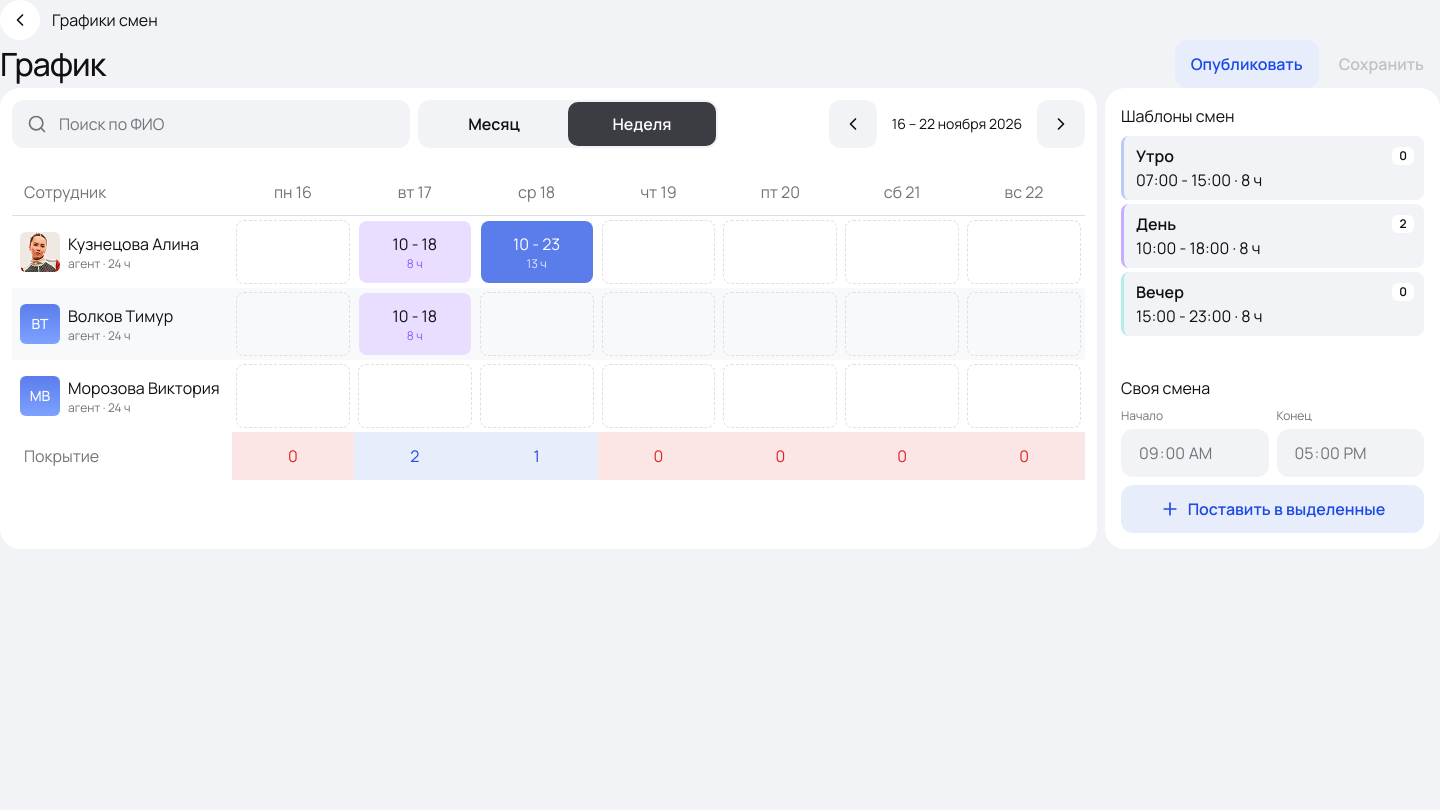
Scenario: SchedulePage: назначение смен › быстрое назначение по клику на дату ставит смену всем сотрудникам
Check: the table is shown, box [12,168,1085,537]
Click the button with aria-label "Быстро назначить смену на 2026-11-20" at (780, 192), box [753,176,808,208]
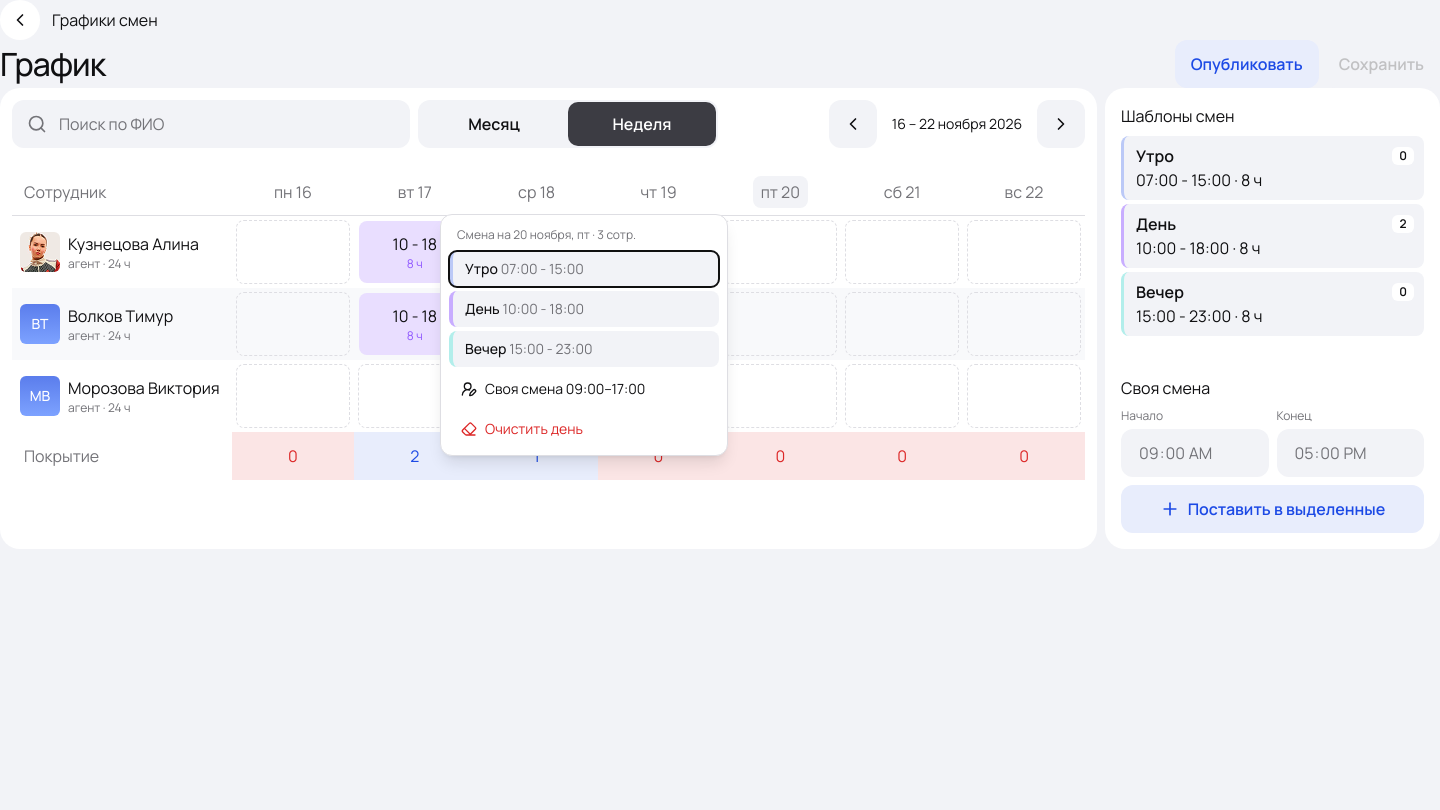
Click the button "Вечер 15:00 - 23:00" at (584, 349), box [449,331,719,367]
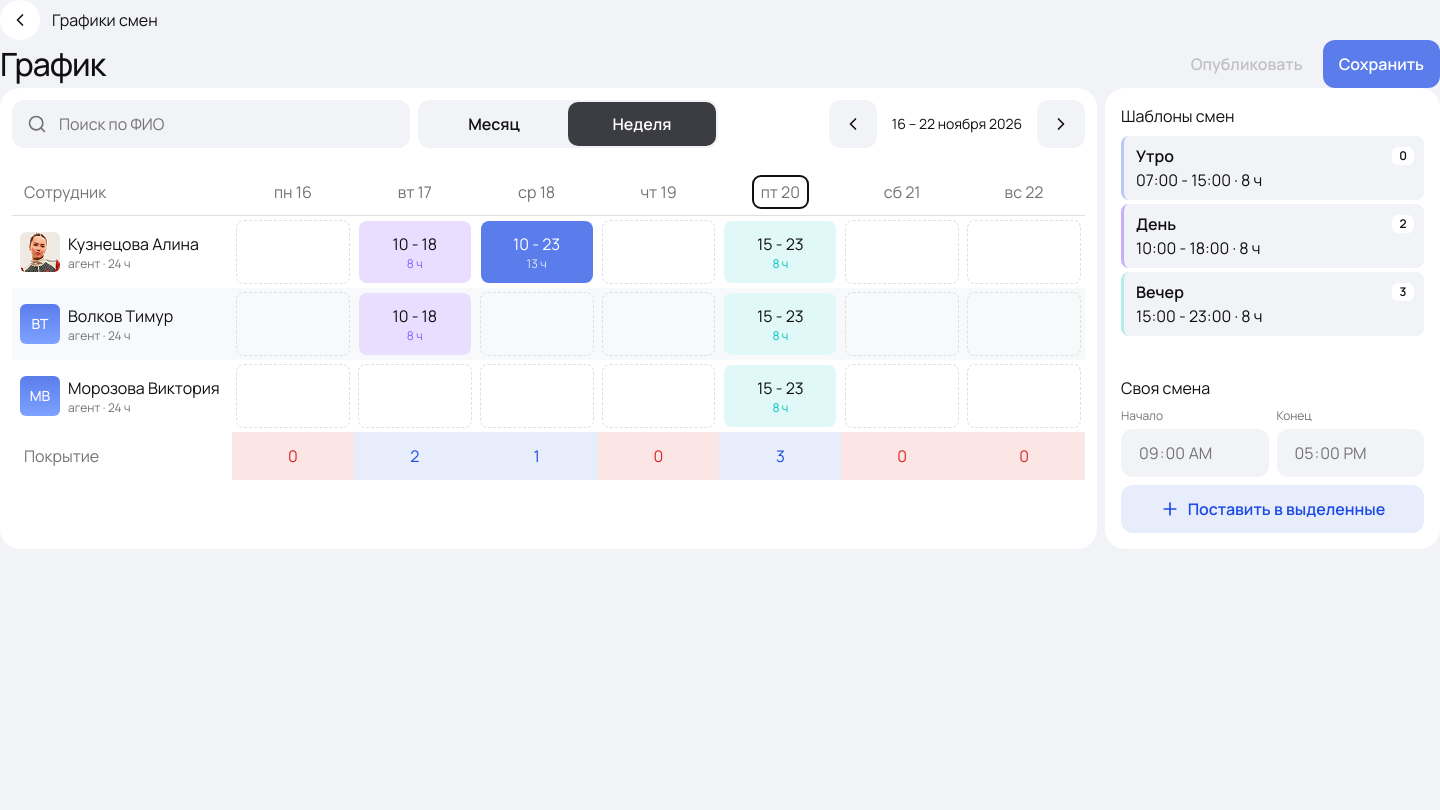
Check: the 3rd text "15 - 23" is shown, box [757,376,804,400]
Check: the cell named "Покрытие 2026-11-20: 3" is shown, box [719,432,841,480]
